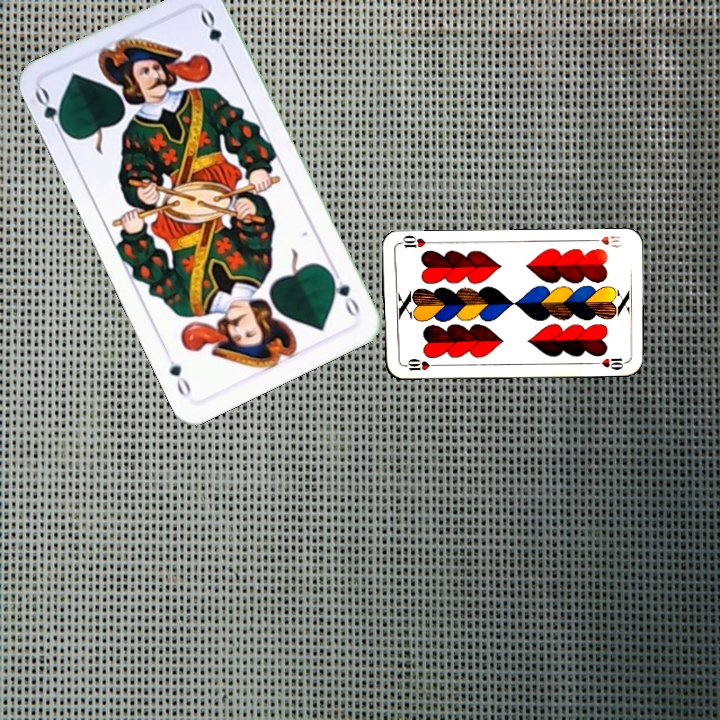GO: (30, 84, 71, 140), (324, 264, 363, 320)
H10: (585, 232, 625, 251), (398, 355, 439, 373)
